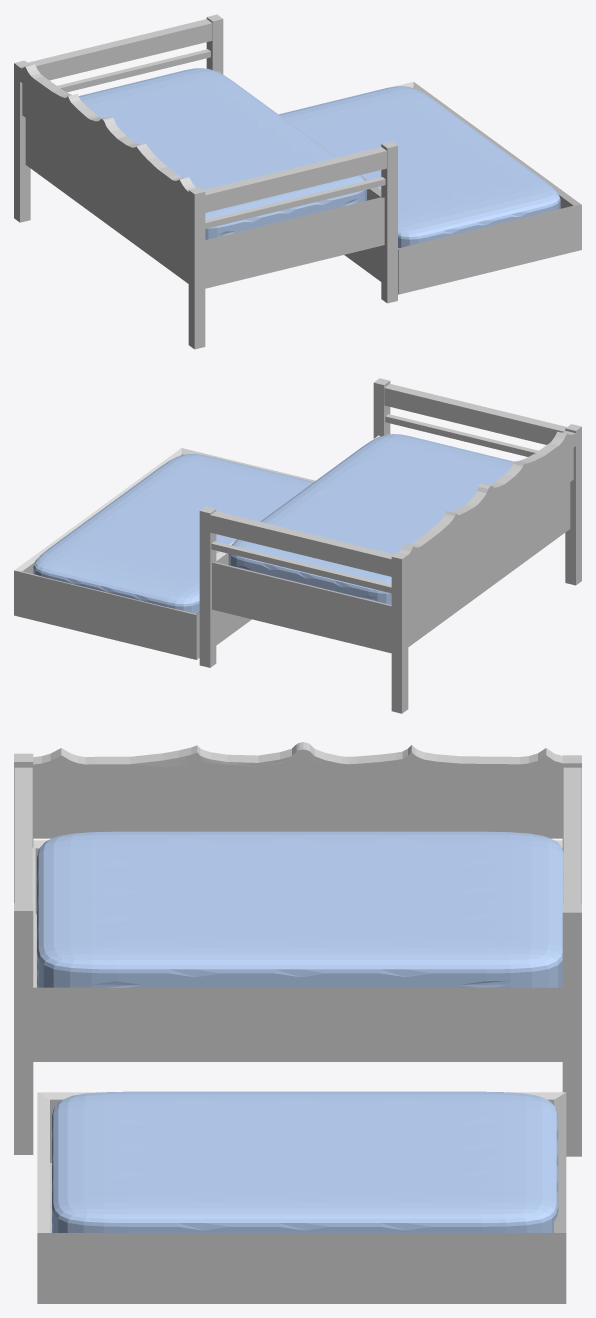
The model's file is daybed.obj.
3 views of the same model, one above another, from view 1: azimuth 30°, elevation 25°; view 2: azimuth 150°, elevation 25°; view 3: azimuth 270°, elevation 25° (orthographic). The views are drawn at different scales.
Visible parts, largest first — view 1: mattress, mattress_1, PolyMesh_1, PolyMesh_1_1, Cube_5, PolyMesh_2, Cube_2_1, Cube_2, Cube_1_2, Cube_1_1, Cube_1_3, Cube_3_1 (+2 smaller); view 2: mattress, mattress_1, PolyMesh_1, PolyMesh_1_1, Cube_5, PolyMesh_2, Cube_2, Cube_2_1, Cube_1_3, Cube_1, Cube_1_2, Cube_3 (+2 smaller); view 3: mattress_1, mattress, PolyMesh_1_1, PolyMesh_1, Cube_5, PolyMesh_2, Cube_1_1, Cube_1, Cube_2, Cube_2_1.
Part boxes in pixels (x1,y1,x2,y2): mattress: (279, 86, 560, 248); mattress_1: (78, 68, 366, 239); PolyMesh_1: (25, 68, 384, 288); PolyMesh_1_1: (344, 81, 581, 294); Cube_5: (22, 83, 188, 236); PolyMesh_2: (14, 64, 195, 205); Cube_2_1: (203, 147, 386, 212); Cube_2: (28, 19, 212, 80); Cube_1_2: (188, 187, 205, 349); Cube_1_1: (381, 141, 397, 303); Cube_1_3: (14, 60, 30, 222); Cube_3_1: (205, 177, 385, 228); mattress: (33, 454, 313, 613); mattress_1: (228, 434, 513, 604); PolyMesh_1: (212, 434, 570, 653); PolyMesh_1_1: (14, 448, 315, 659); Cube_5: (408, 448, 573, 600); PolyMesh_2: (399, 431, 577, 572); Cube_2: (210, 511, 393, 576); Cube_2_1: (384, 384, 566, 444); Cube_1_3: (391, 552, 408, 713); Cube_1: (199, 506, 216, 667); Cube_1_2: (565, 424, 581, 585); Cube_3: (211, 541, 391, 593); mattress_1: (37, 831, 563, 987); mattress: (52, 1091, 558, 1232); PolyMesh_1_1: (37, 1092, 566, 1303); PolyMesh_1: (32, 840, 562, 1061); Cube_5: (33, 783, 562, 838); PolyMesh_2: (33, 742, 562, 783); Cube_1_1: (14, 903, 33, 1154); Cube_1: (562, 904, 581, 1156); Cube_2: (563, 767, 581, 904); Cube_2_1: (14, 767, 32, 902).
Size of the model in its own units: 7.05 by 2.81 by 5.59.
